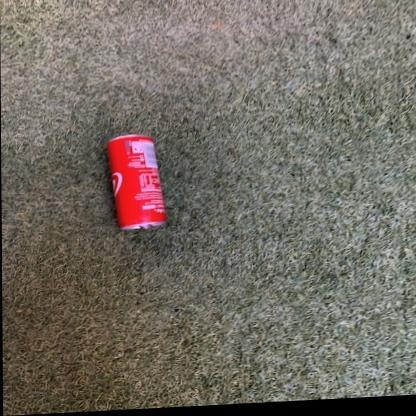trash: (107, 135, 165, 229)
